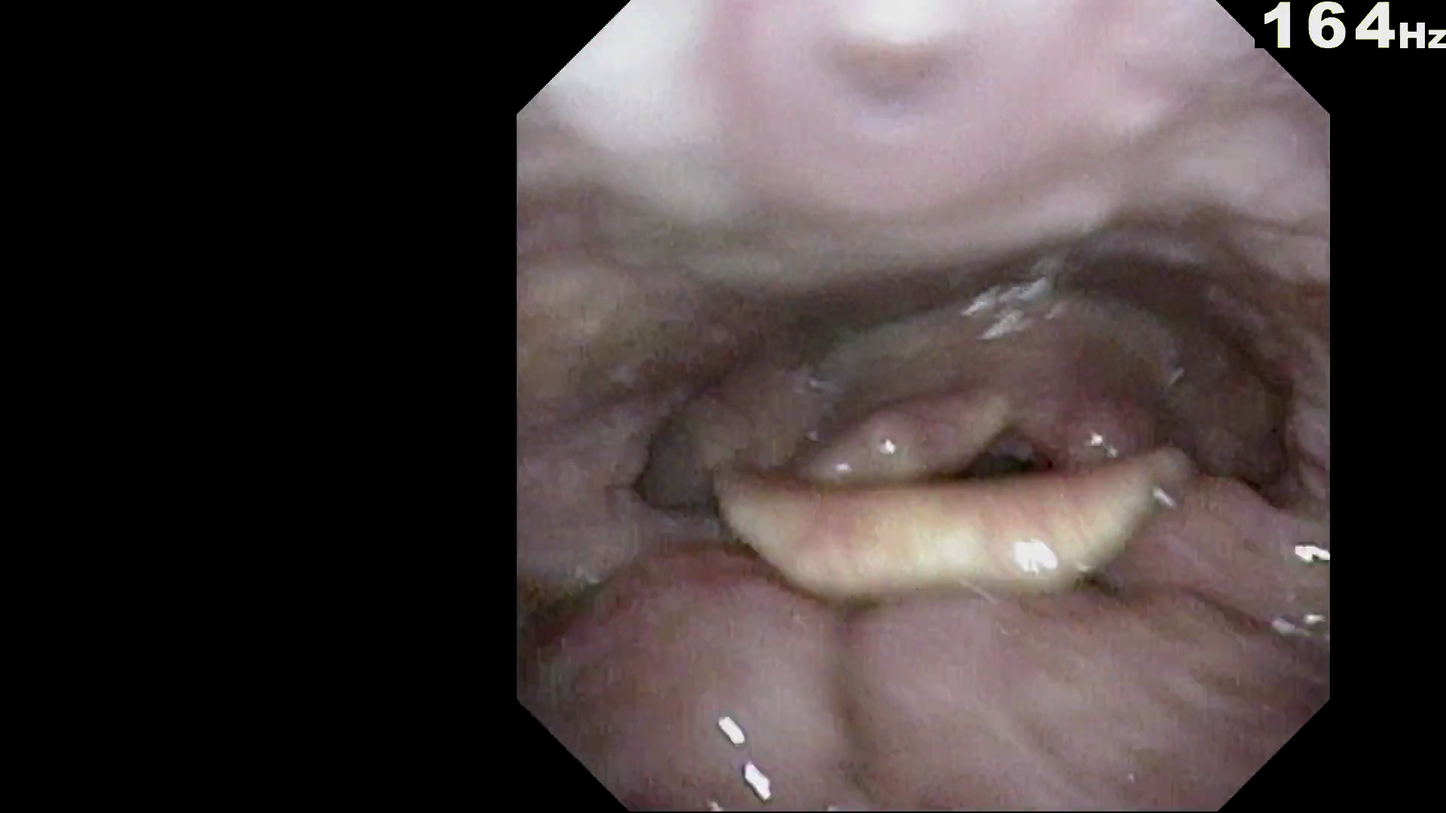epiglottis: (691, 411, 1175, 555)
